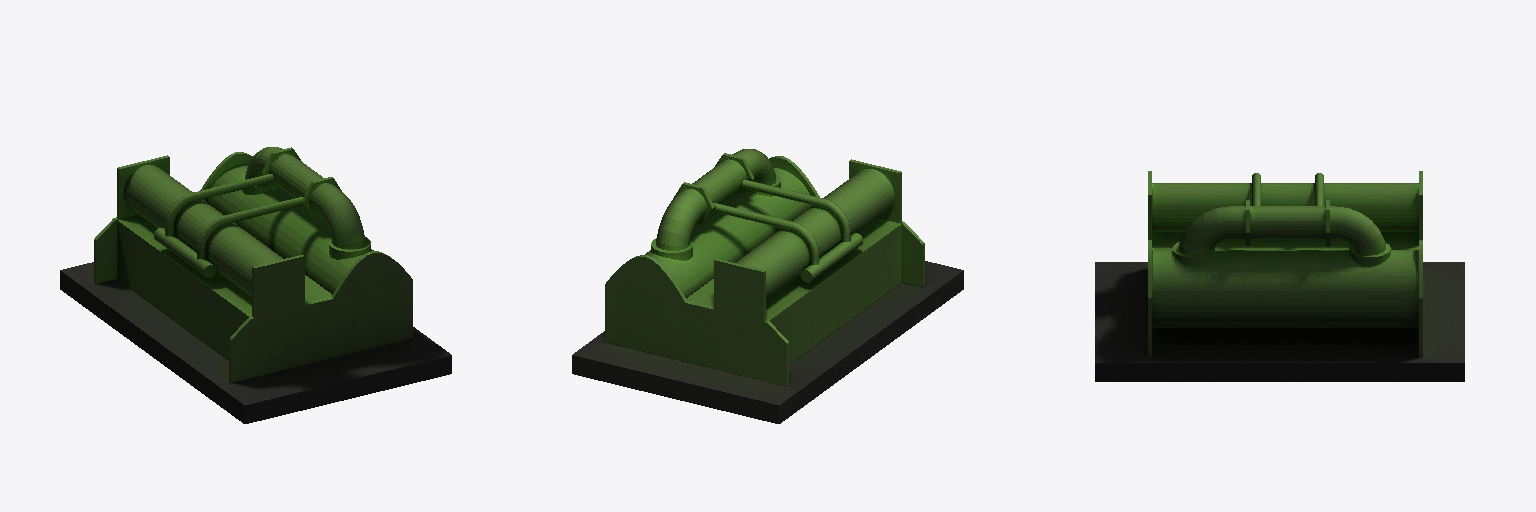
3 views of the same model, side by side, from view 1: azimuth 30°, elevation 25°; view 2: azimuth 150°, elevation 25°; view 3: azimuth 270°, elevation 25° (orthographic).
Parts seen in each view (by area): view 1: Loft07; view 2: Loft07; view 3: Loft07.
Boxes of the visible parts, x1,y1,x2,y2 form: Loft07: [60, 147, 451, 423]; Loft07: [572, 149, 963, 423]; Loft07: [1095, 171, 1464, 381].
Bounding box in the file's own units: 163 × 114 × 252.
Materials: 1 (1 with a texture image).